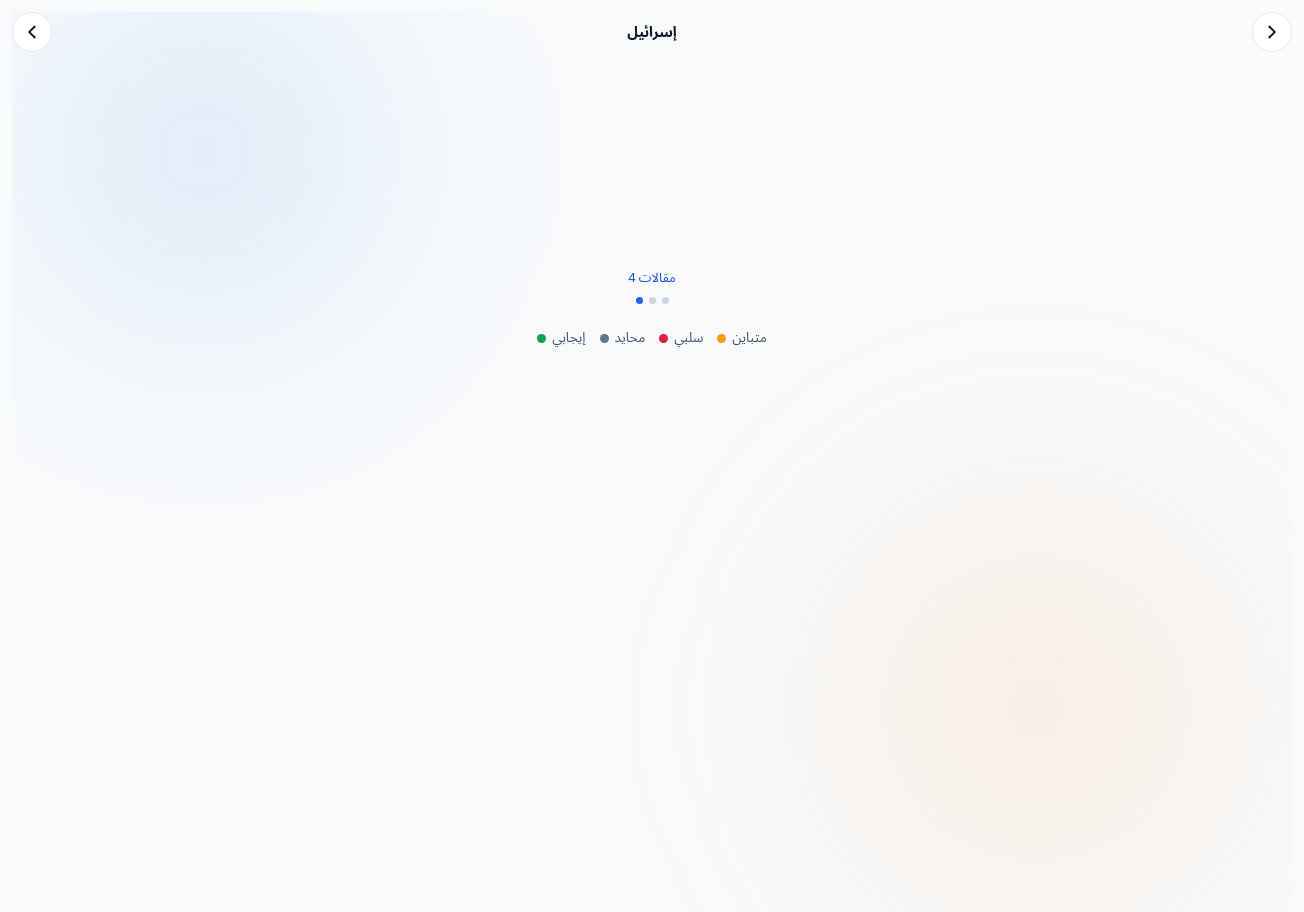
DemographicPieCarousel › labels each bucket it steps through in Arabic
The image size is (1304, 912).
Expected: the text "إسرائيل" is shown, [627,22,677,40]
Click the button named "القيمة التالية". click: click(1272, 32)
box: [1252,12,1292,52]
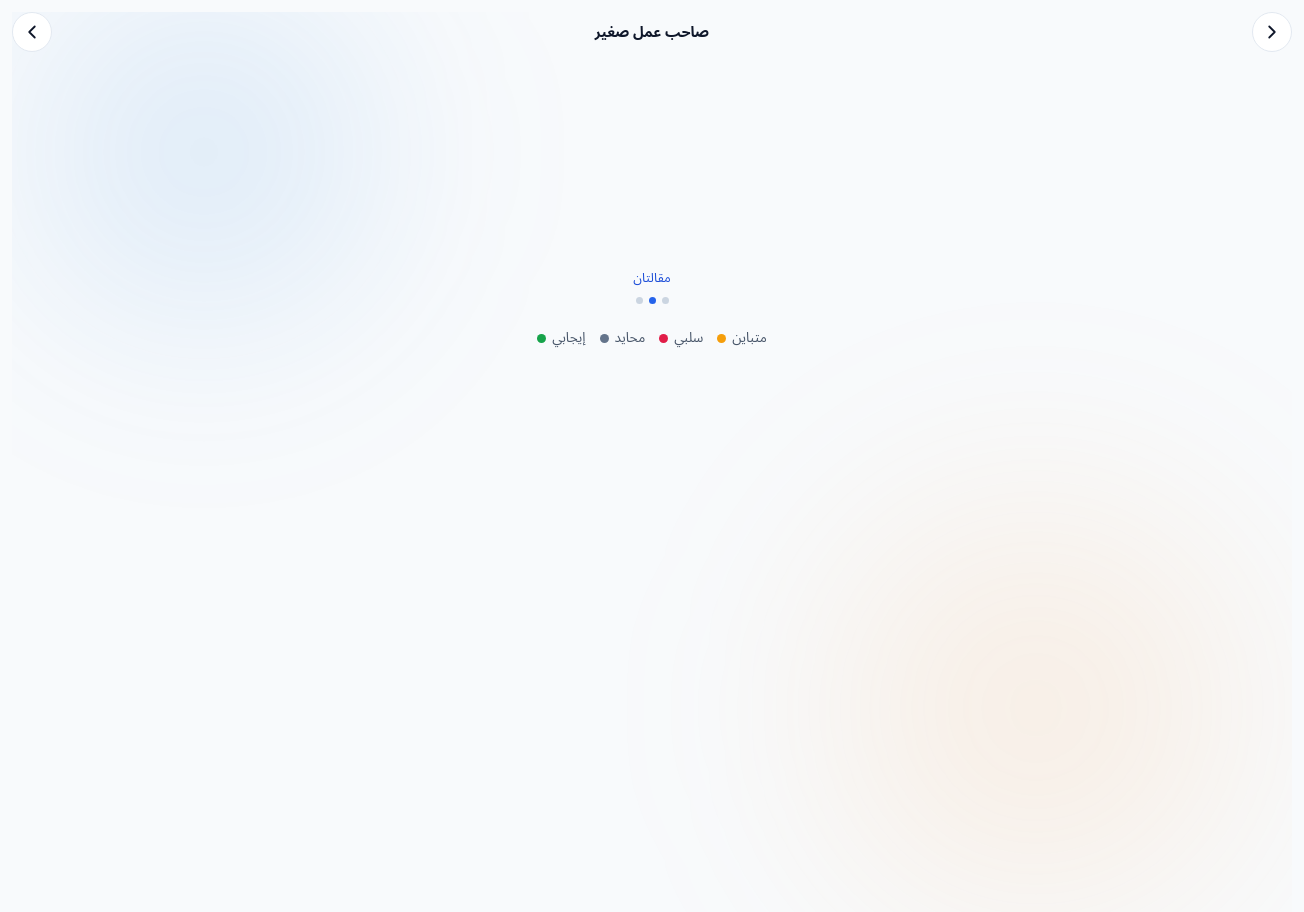
Expected: the text "صاحب عمل صغير" is shown, [595,22,709,40]
Click the button named "القيمة التالية". click: click(1272, 32)
box: [1252,12,1292,52]
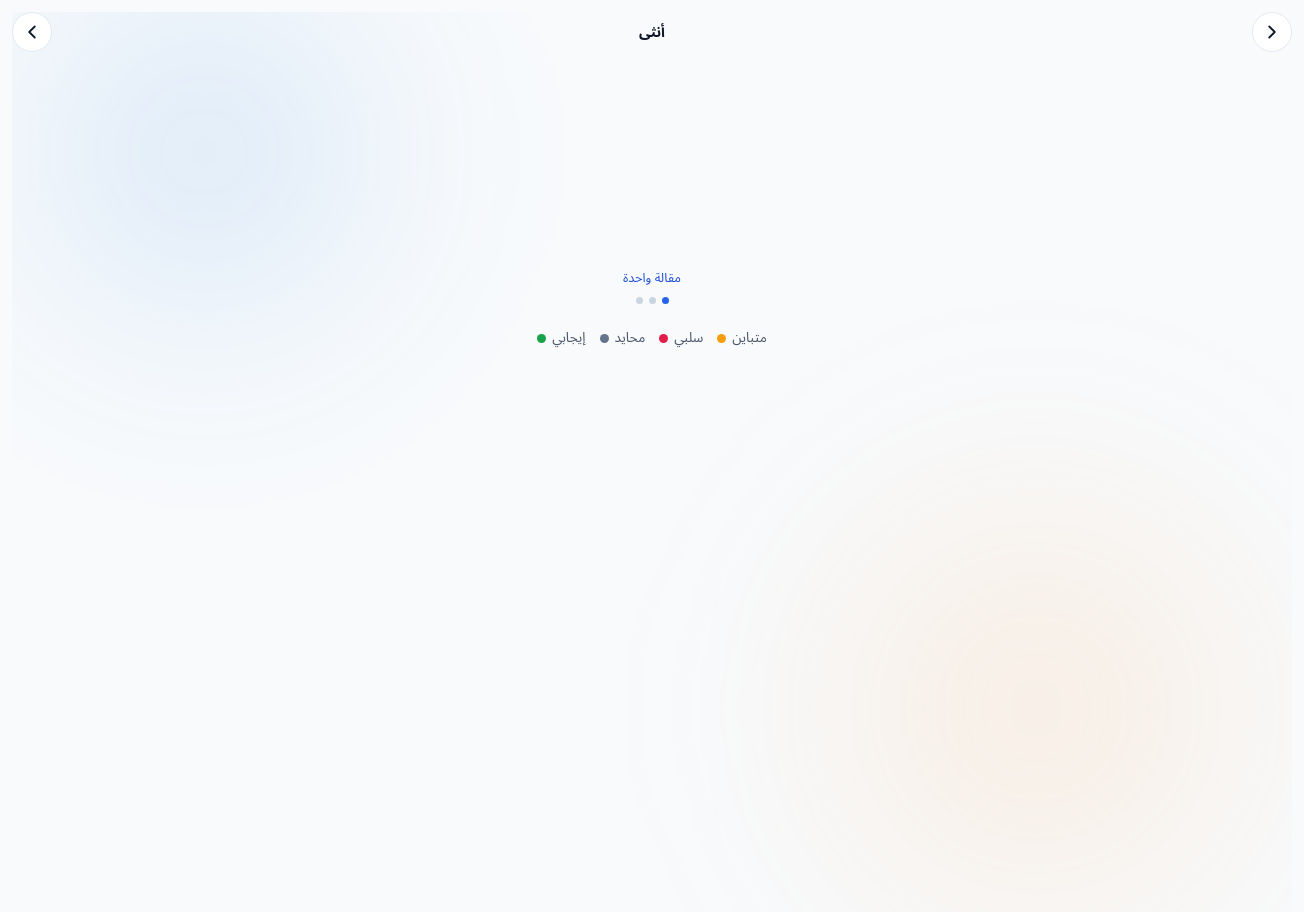
Expected: the text "أنثى" is shown, [639,22,665,40]
